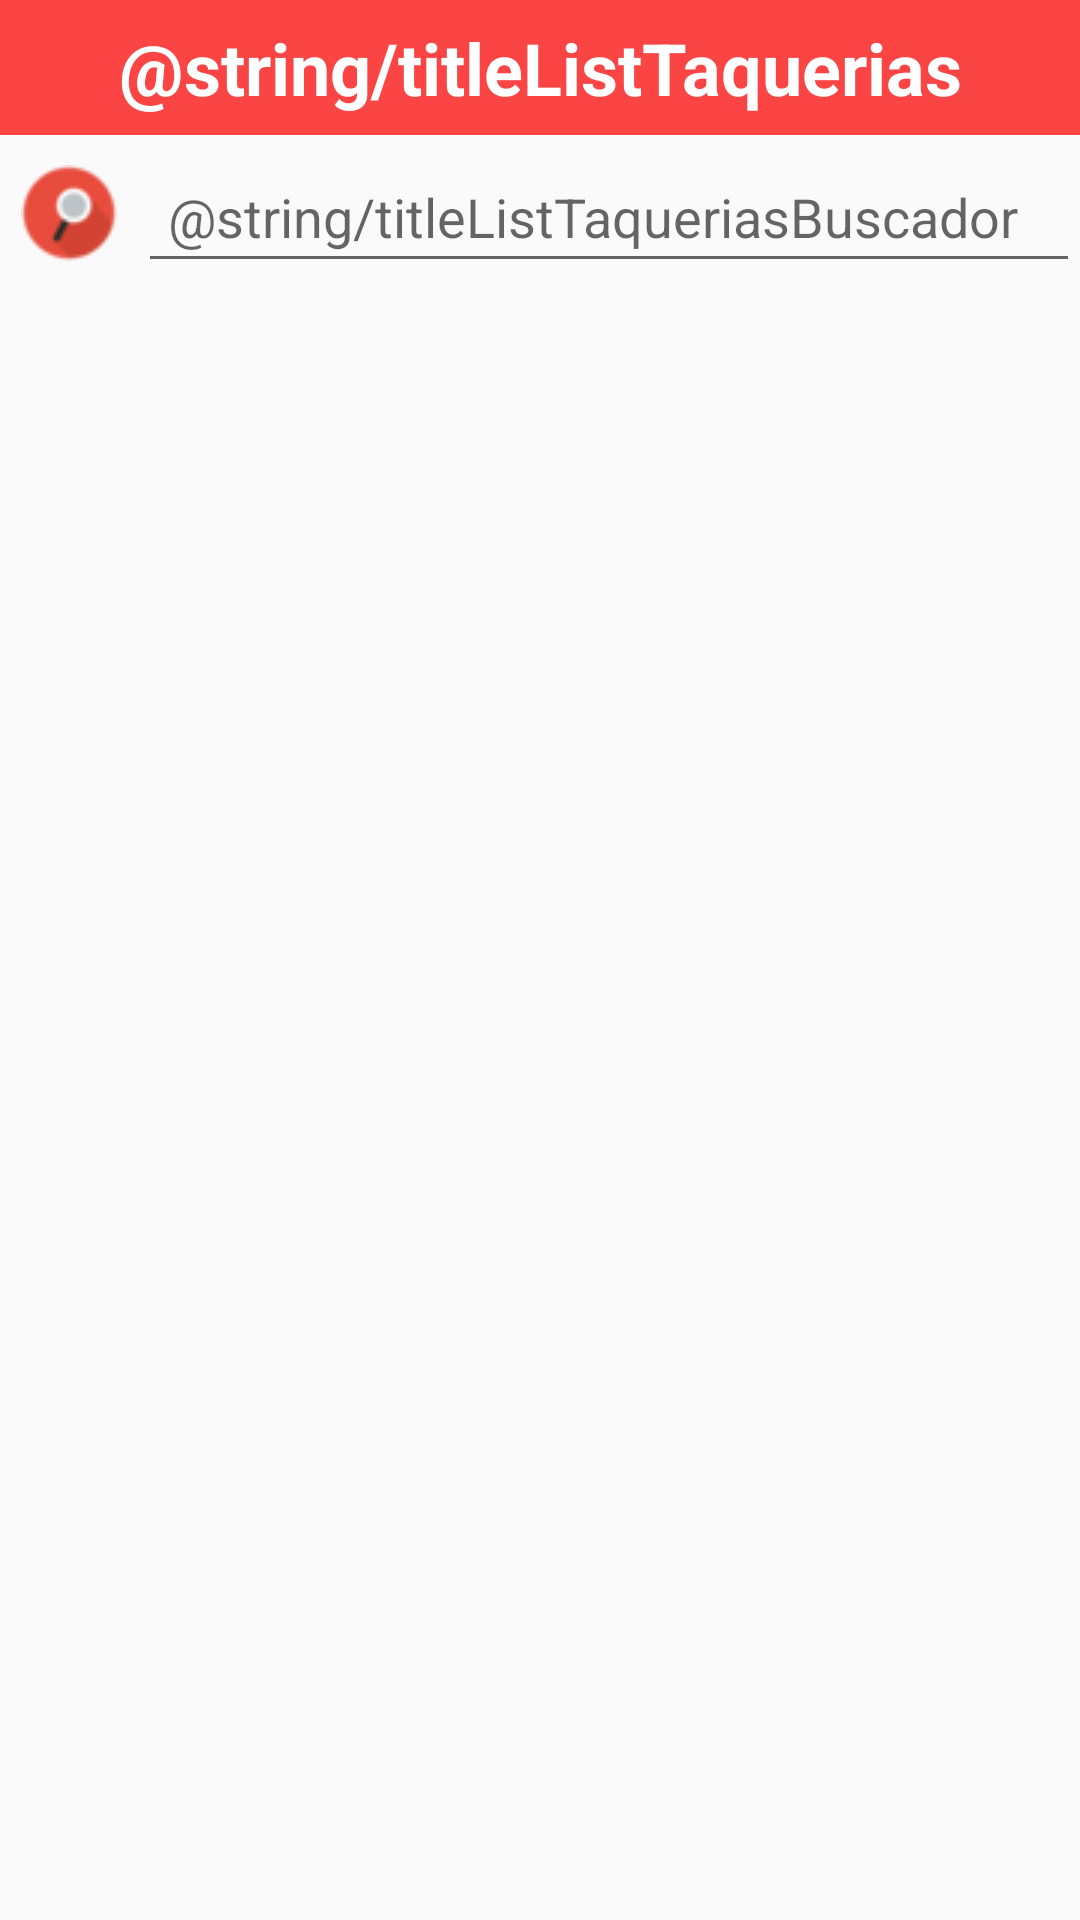

Named icons in this screenshot (1080x1920) and their bounding boxes, {"x1": x1, "y1": y1, "x2": x2, "y2": y2}:
search: {"x1": 21, "y1": 165, "x2": 117, "y2": 261}
